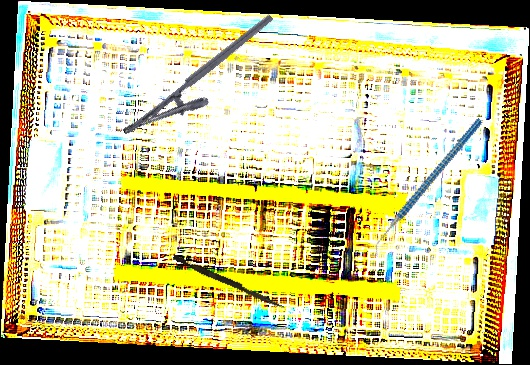Chopper: (342, 117, 515, 259)
Needle Holder: (121, 13, 290, 156)
Pusher: (171, 254, 287, 310)
